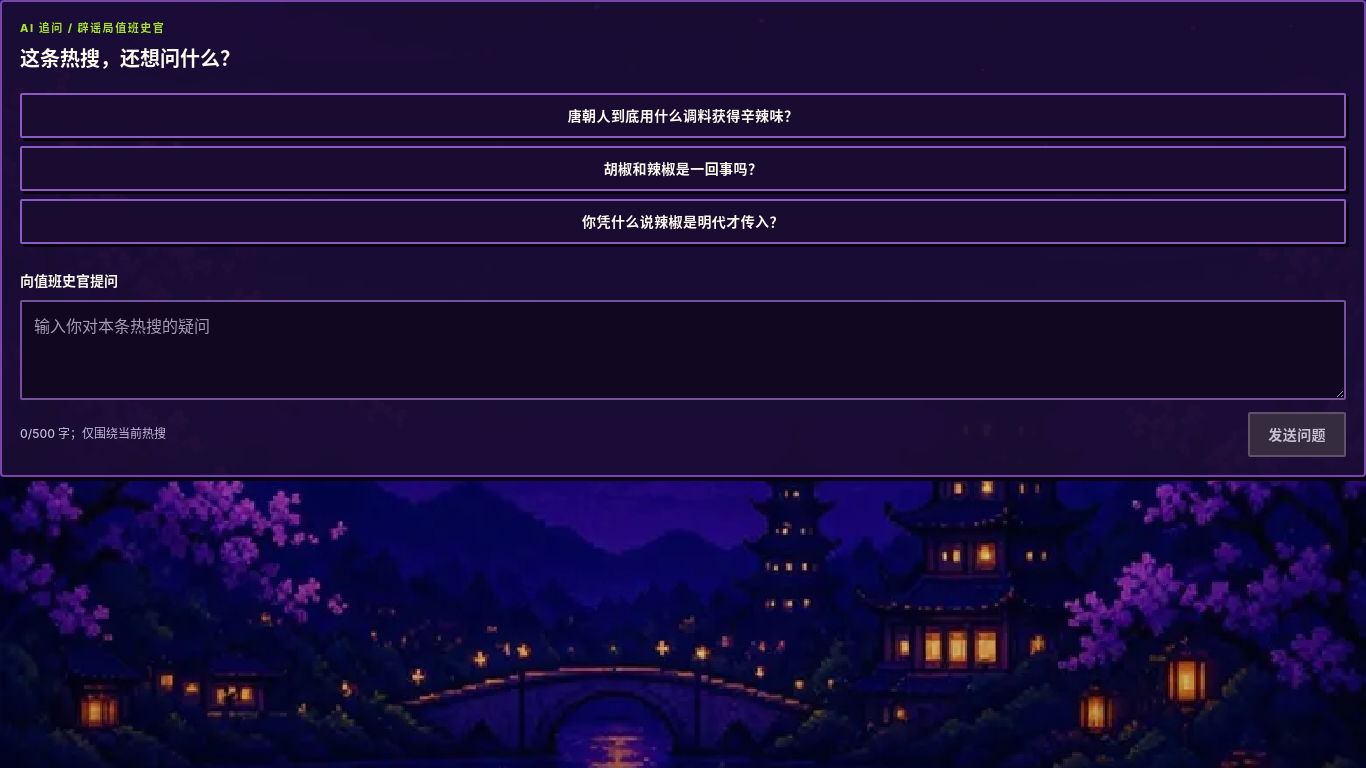
Test: AskPanel › 显示加载状态并禁止重复发送，完成后渲染模型回答、有效引用和预览标记
Type "  胡椒是什么？  " into the text box labelled "向值班史官提问" at (683, 350), box [20,300,1346,400]
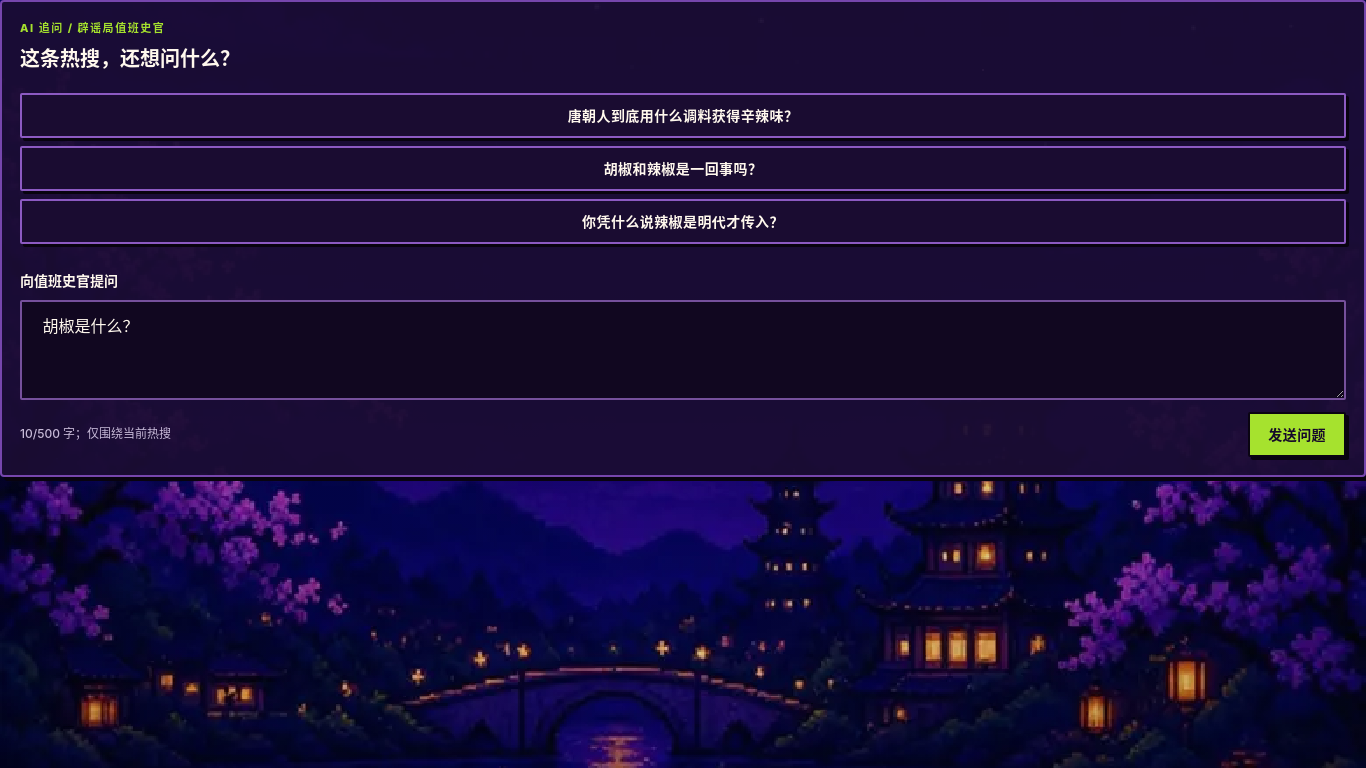
Click the button "发送问题" at (1297, 434), box [1248,412,1346,456]
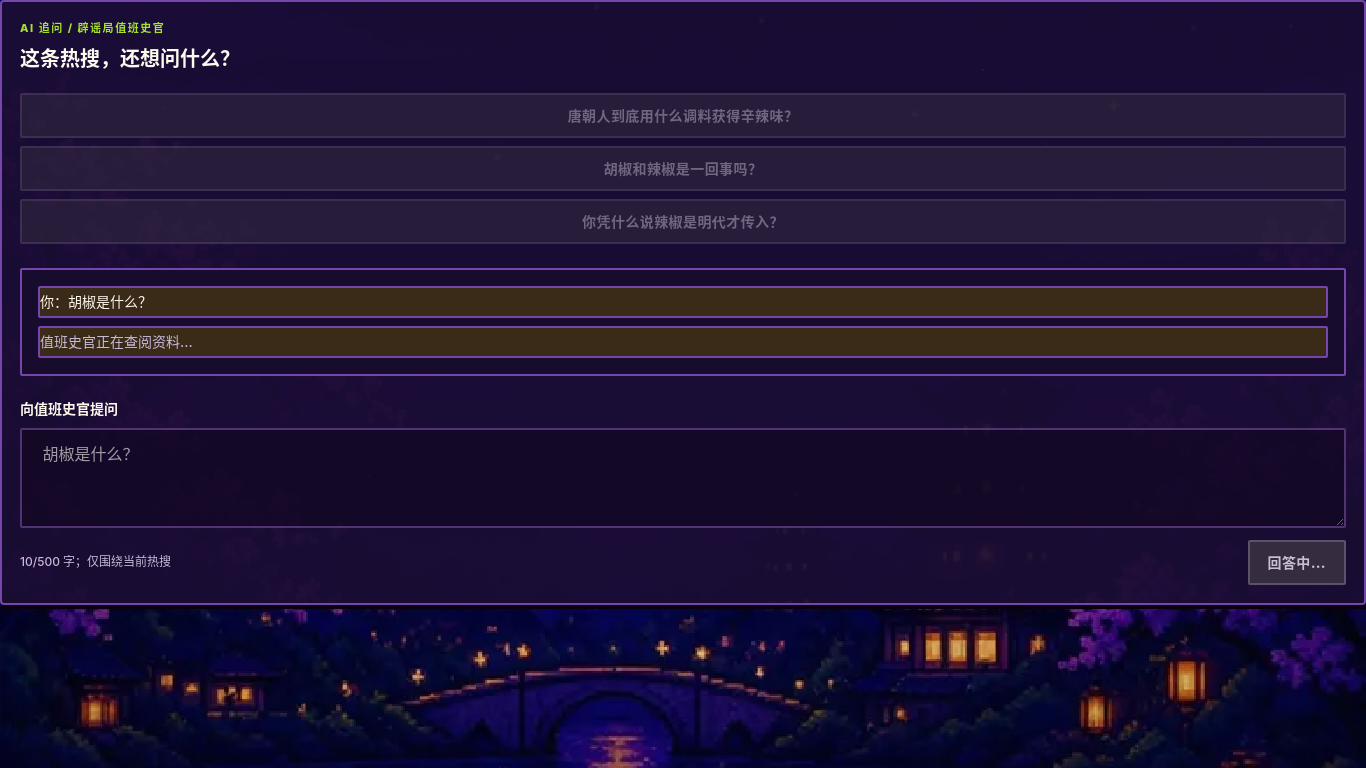
Now the message shows "正在查阅资料", box [40,332,193,350]
Now the button "回答中…" is disabled, box [1248,540,1346,584]
Now the text box is disabled, box [20,428,1346,528]
Click the button "胡椒和辣椒是一回事吗？" at (683, 168), box [20,146,1346,190]
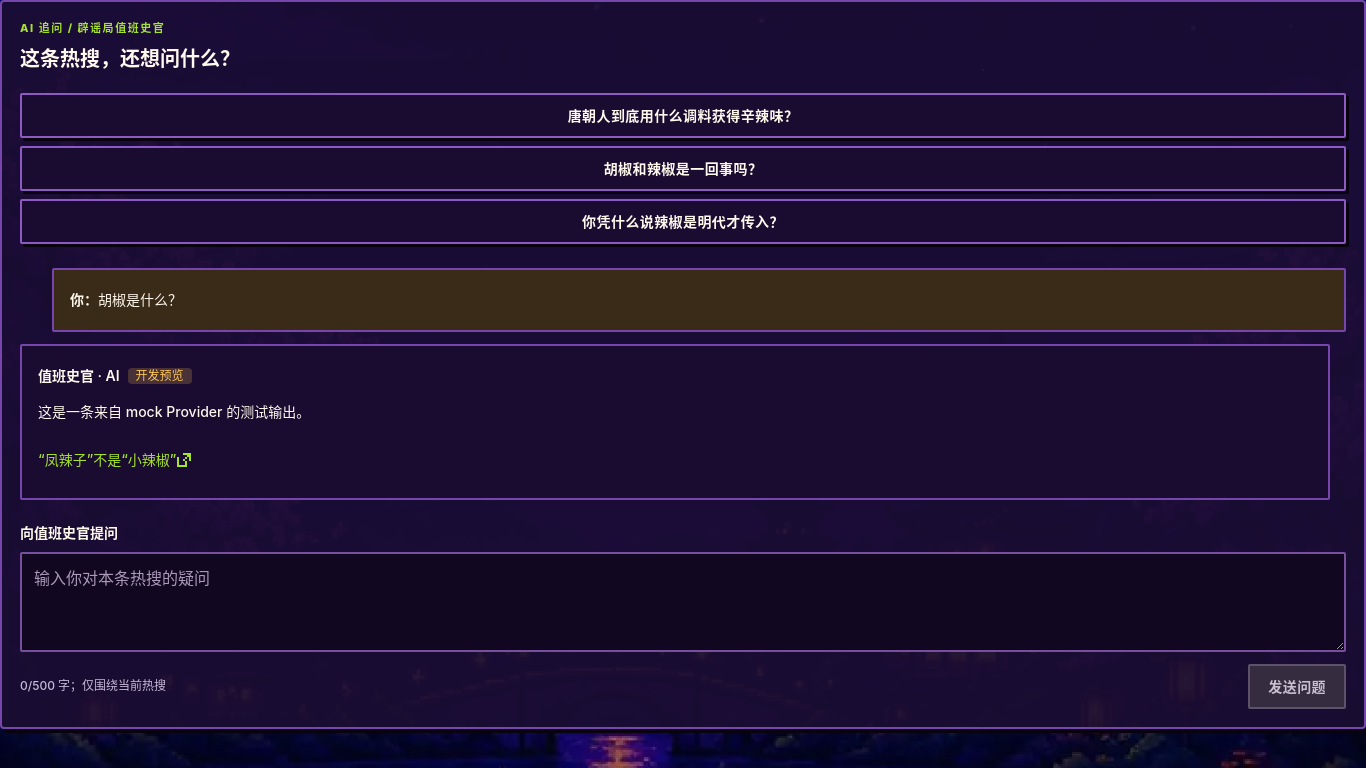
Now the text "这是一条来自 mock Provider 的测试输出。" is shown, box [38,402,310,420]
Now the text "开发预览" is shown, box [128,368,192,384]
Now the number of links is 1, box [38,450,192,468]
